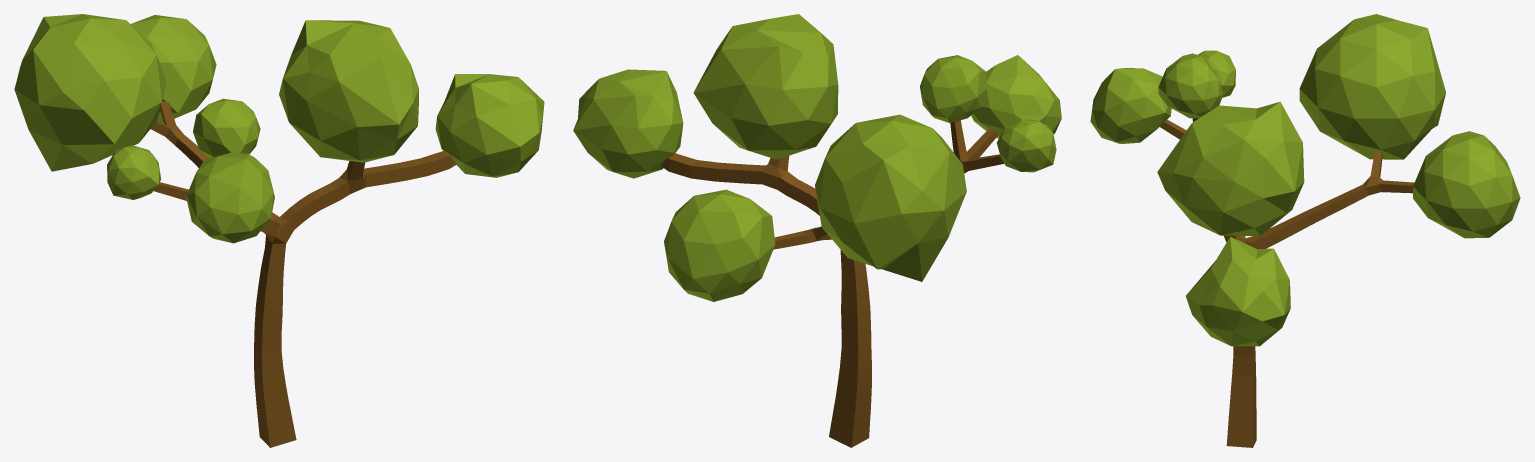
Rendered from tree.glb.
3 views of the same model, side by side, from view 1: azimuth 30°, elevation 25°; view 2: azimuth 150°, elevation 25°; view 3: azimuth 270°, elevation 25° (orthographic). The views are drawn at different scales.
Visible parts, largest first — view 1: Icosphere.001, Icosphere.005, Plane, Icosphere.006, Icosphere.004, Icosphere, Icosphere.002, Icosphere.003; view 2: Icosphere.001, Icosphere.005, Plane, Icosphere, Icosphere.006, Icosphere.004, Icosphere.002, Icosphere.003; view 3: Icosphere.001, Icosphere.005, Icosphere, Icosphere.006, Plane, Icosphere.004, Icosphere.002, Icosphere.003.
Boxes of the visible parts, box(x1,y1,x2,y2) form: Icosphere.001: box(14, 14, 166, 171); Icosphere.005: box(279, 20, 418, 162); Plane: box(151, 101, 456, 447); Icosphere.006: box(435, 74, 544, 177); Icosphere.004: box(186, 152, 274, 243); Icosphere: box(131, 15, 216, 123); Icosphere.002: box(193, 98, 260, 157); Icosphere.003: box(107, 145, 160, 199); Icosphere.001: box(815, 114, 966, 281); Icosphere.005: box(693, 14, 838, 159); Plane: box(660, 120, 1004, 447); Icosphere: box(664, 189, 775, 301); Icosphere.006: box(573, 69, 683, 178); Icosphere.004: box(971, 55, 1061, 138); Icosphere.002: box(920, 55, 987, 122); Icosphere.003: box(997, 119, 1056, 172); Icosphere.001: box(1299, 14, 1445, 159); Icosphere.005: box(1157, 101, 1304, 235); Icosphere: box(1413, 131, 1520, 238); Icosphere.006: box(1186, 236, 1290, 346); Plane: box(1160, 118, 1414, 447); Icosphere.004: box(1090, 68, 1171, 143); Icosphere.002: box(1158, 53, 1223, 118); Icosphere.003: box(1198, 50, 1235, 97).
Size of the model in its own units: 9.13 by 7.67 by 8.1.
